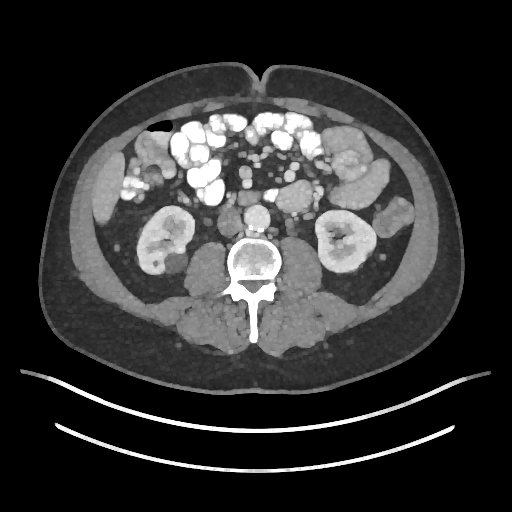Lesion: (162, 249, 191, 274)
